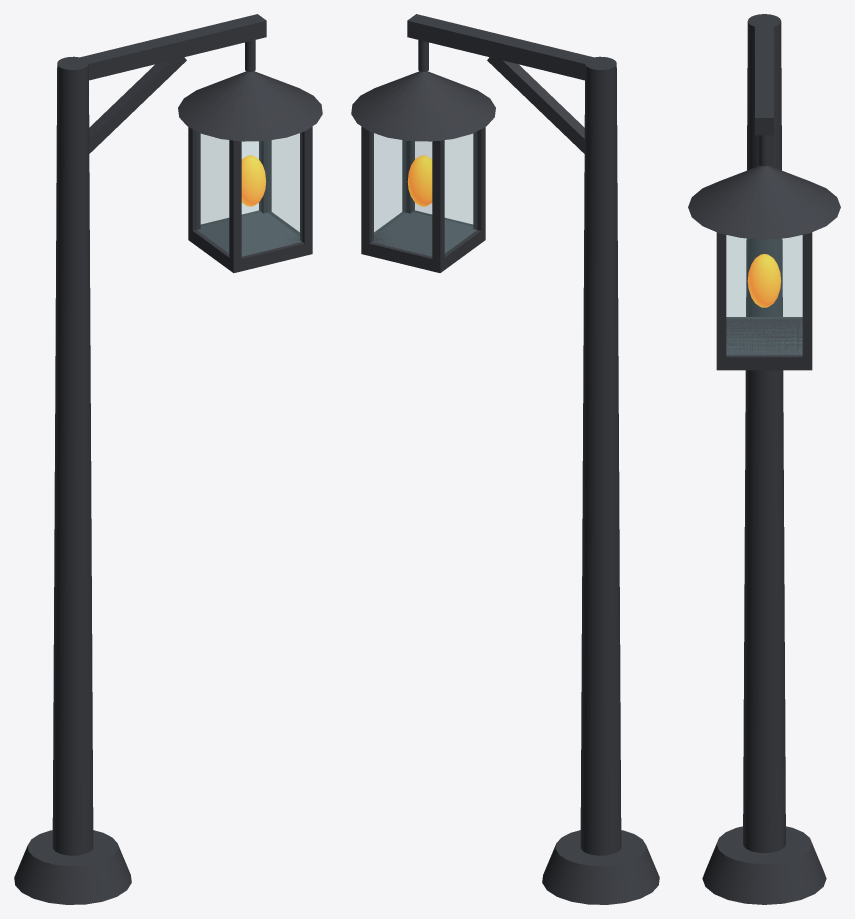
Rendered from hanging-lantern-lod0.glb.
The picture shows the model from 3 angles, left to right: view 1: azimuth 30°, elevation 25°; view 2: azimuth 150°, elevation 25°; view 3: azimuth 270°, elevation 25°; orthographic projection. The views are drawn at different scales.
Parts seen in each view (by area): view 1: post, glass-body, cap, post-foot, cage-bar (×4), bracket, floor-plate, bracket-strut, flame; view 2: post, glass-body, cap, post-foot, cage-bar (×4), bracket, floor-plate, bracket-strut, flame; view 3: post, glass-body, cap, post-foot, floor-plate, cage-bar (×2), bracket, flame, hook.
Boxes of the visible parts, x1,y1,x2,y2 form: post: [52, 56, 93, 855]; glass-body: [197, 132, 301, 256]; cap: [178, 71, 322, 141]; post-foot: [14, 830, 131, 904]; cage-bar (×4): [188, 126, 312, 264]; bracket: [61, 14, 266, 80]; floor-plate: [188, 210, 312, 272]; bracket-strut: [89, 57, 186, 153]; flame: [241, 155, 266, 206]; post: [580, 56, 621, 855]; glass-body: [372, 132, 476, 256]; cap: [351, 71, 495, 141]; post-foot: [542, 830, 659, 904]; cage-bar (×4): [361, 126, 485, 263]; bracket: [407, 14, 612, 80]; floor-plate: [361, 210, 485, 272]; bracket-strut: [487, 57, 584, 153]; flame: [407, 155, 432, 206]; post: [743, 14, 785, 852]; glass-body: [726, 235, 802, 354]; cap: [688, 165, 840, 239]; post-foot: [702, 826, 826, 904]; floor-plate: [716, 317, 812, 370]; cage-bar (×2): [716, 232, 812, 361]; bracket: [755, 17, 773, 135]; flame: [747, 254, 781, 307]; hook: [758, 135, 770, 166].
Size of the model in its own units: 0.74 by 1.98 by 0.32.
